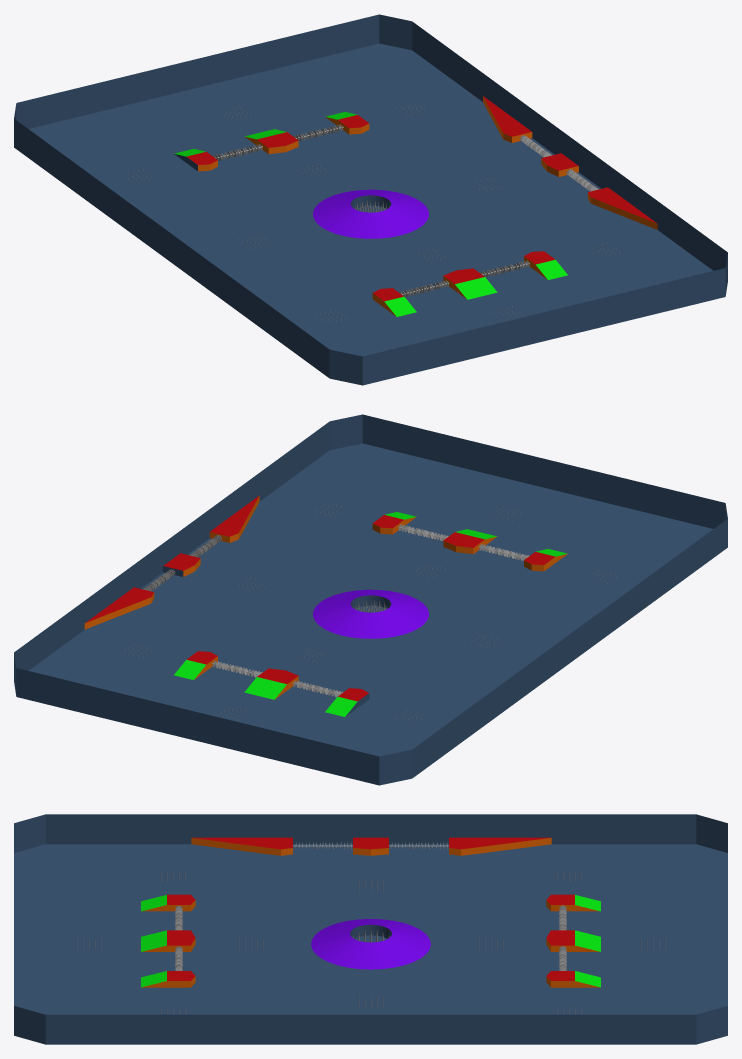
The model's file is BB ARENA.fbx.
3 views of the same model, one above another, from view 1: azimuth 30°, elevation 25°; view 2: azimuth 150°, elevation 25°; view 3: azimuth 270°, elevation 25° (orthographic). The views are drawn at different scales.
Parts seen in each view (by area): view 1: Main Border box; view 2: Main Border box; view 3: Main Border box.
Boxes of the visible parts, left/top/right/bottom form: Main Border box: left=14, top=14, right=727, bottom=385; Main Border box: left=14, top=414, right=727, bottom=785; Main Border box: left=14, top=814, right=727, bottom=1044.
Bounding box in the file's own units: 7900 × 655 × 11900.
